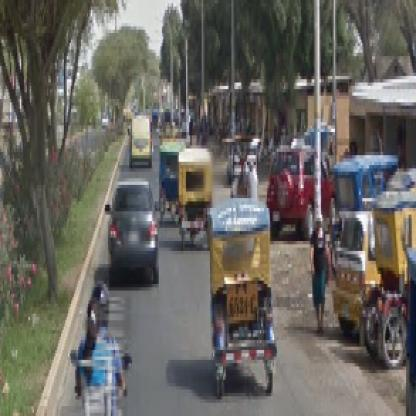Peaton: (311, 216, 332, 331)
Pista: (54, 113, 318, 414)
Vehiculo: (208, 199, 278, 397), (105, 183, 161, 295), (178, 146, 215, 252), (129, 113, 153, 169)
